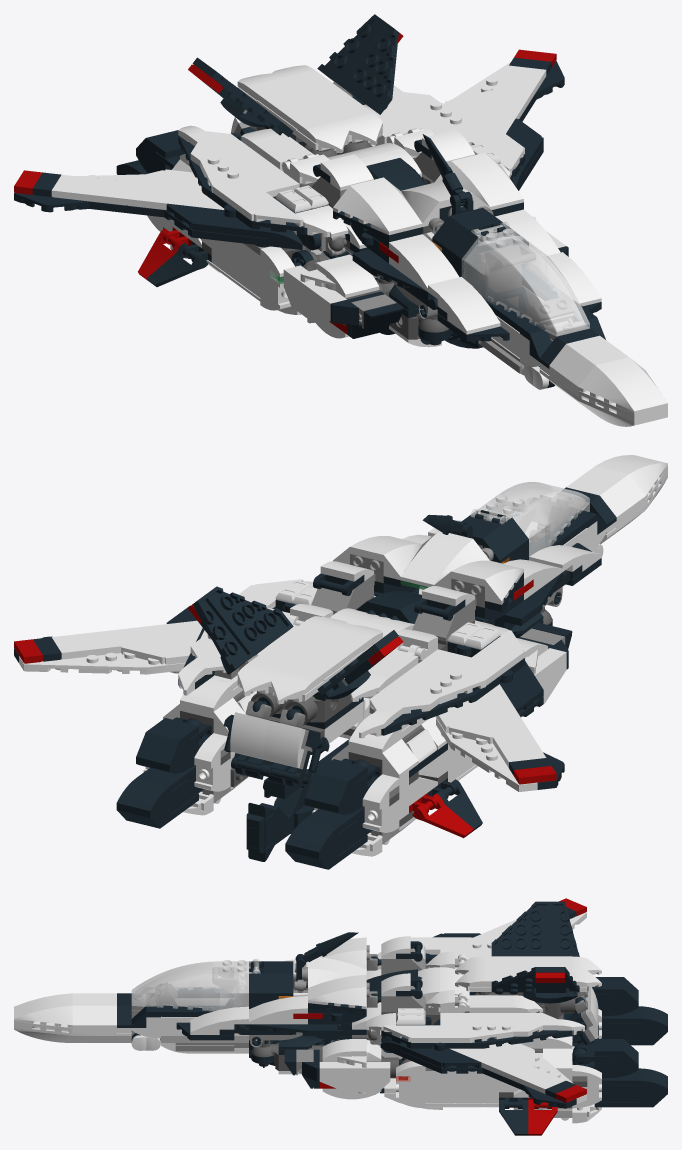
The model's file is vf-5000-star-mirage-fighter.dae.
3 views of the same model, one above another, from view 1: azimuth 30°, elevation 25°; view 2: azimuth 150°, elevation 25°; view 3: azimuth 270°, elevation 25° (orthographic). The views are drawn at different scales.
Bounding box in the file's own units: 643 × 890 × 253.
